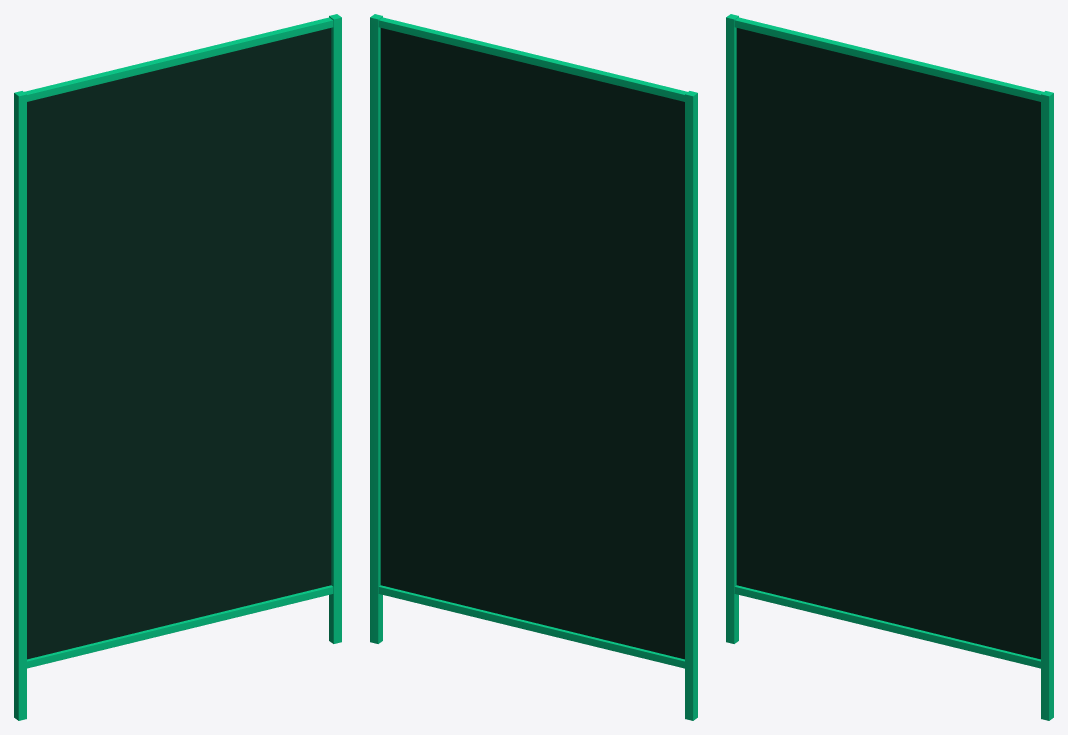
Rendered from WeldingCurtain_Strong_Hannah.fbx.
3 renders of one model, left to right at view 1: azimuth 30°, elevation 25°; view 2: azimuth 150°, elevation 25°; view 3: azimuth 330°, elevation 25°, orthographic.
Visible parts, largest first — view 1: WeldCurtain; view 2: WeldCurtain; view 3: WeldCurtain.
Boxes of the visible parts, box(x1,y1,x2,y2) form: WeldCurtain: box(14, 14, 341, 720); WeldCurtain: box(370, 14, 697, 720); WeldCurtain: box(726, 14, 1053, 720).
Size of the model in its own units: 1.07 by 1.98 by 0.0278.
